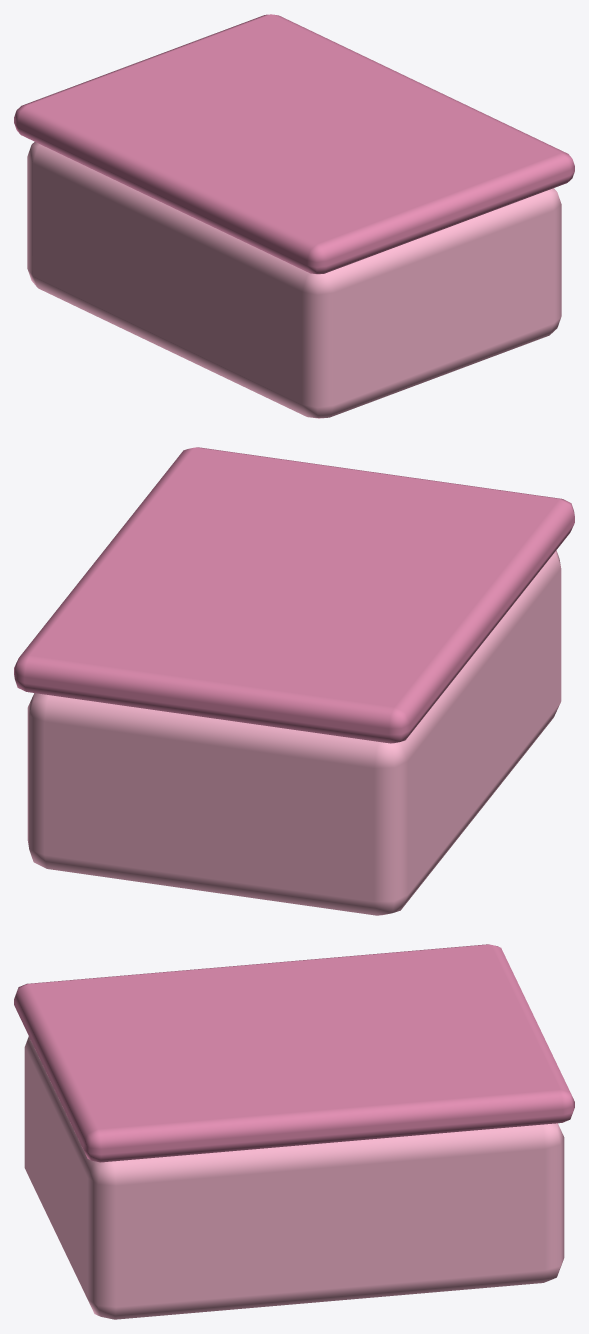
The model's file is jewelry_box.fbx.
The picture shows the model from 3 angles, top to bottom: view 1: azimuth 30°, elevation 25°; view 2: azimuth 150°, elevation 25°; view 3: azimuth 270°, elevation 25°; orthographic projection. The views are drawn at different scales.
Visible parts, largest first — view 1: jewelry_box; view 2: jewelry_box; view 3: jewelry_box.
Part boxes in pixels (x1,y1,x2,y2): jewelry_box: [14, 14, 574, 418]; jewelry_box: [14, 447, 574, 915]; jewelry_box: [14, 944, 574, 1319].
Size of the model in its own units: 0.1533 by 0.072 by 0.1846.
